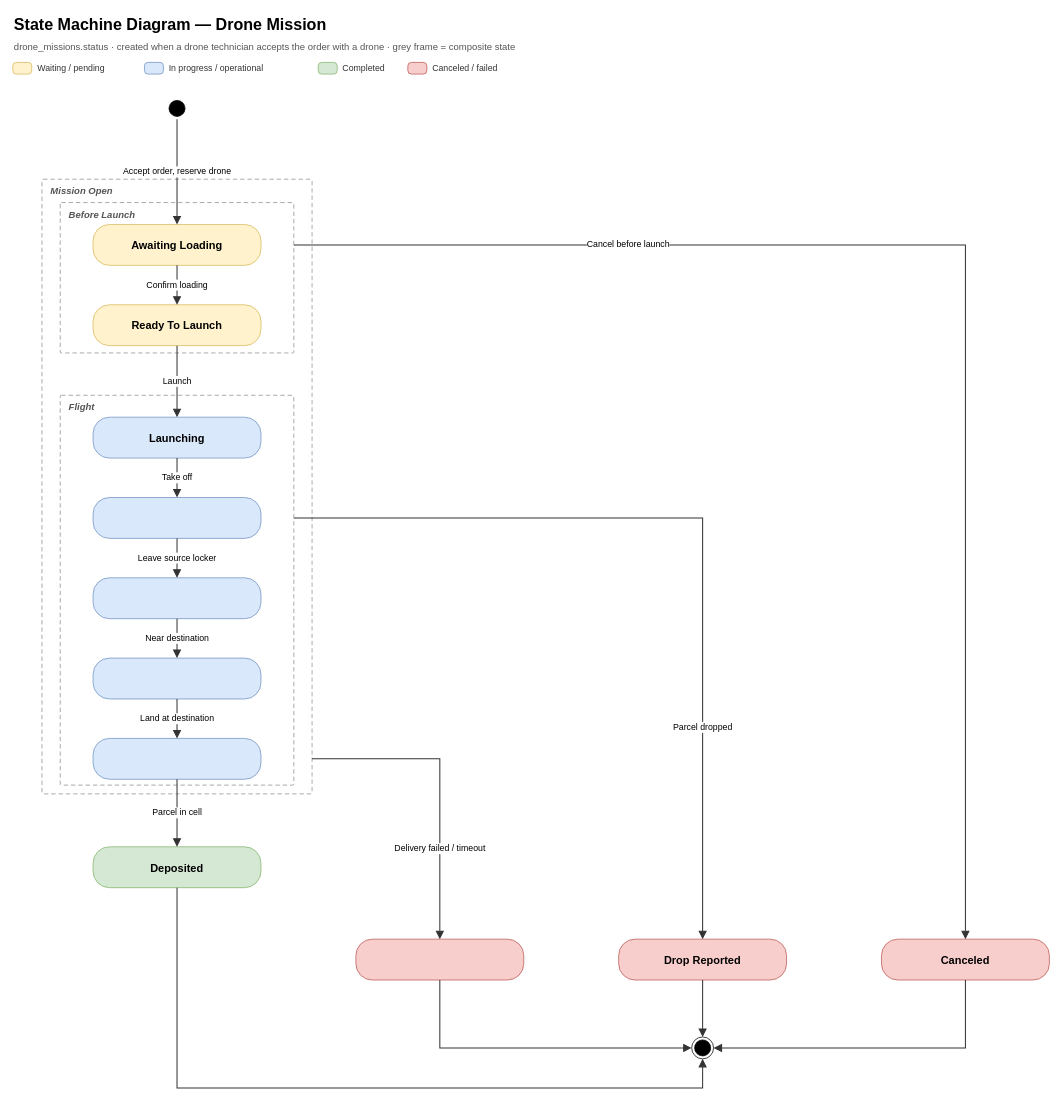
The diagram is 1062 pixels wide and 1108 high, and some of its shapes have lost their labels. The centre of each missing label's shape, as x and y in pixels:
Approaching: [176,678]
Arrived: [176,758]
Departed: [176,517]
En Route: [176,598]
Failed: [439,959]
